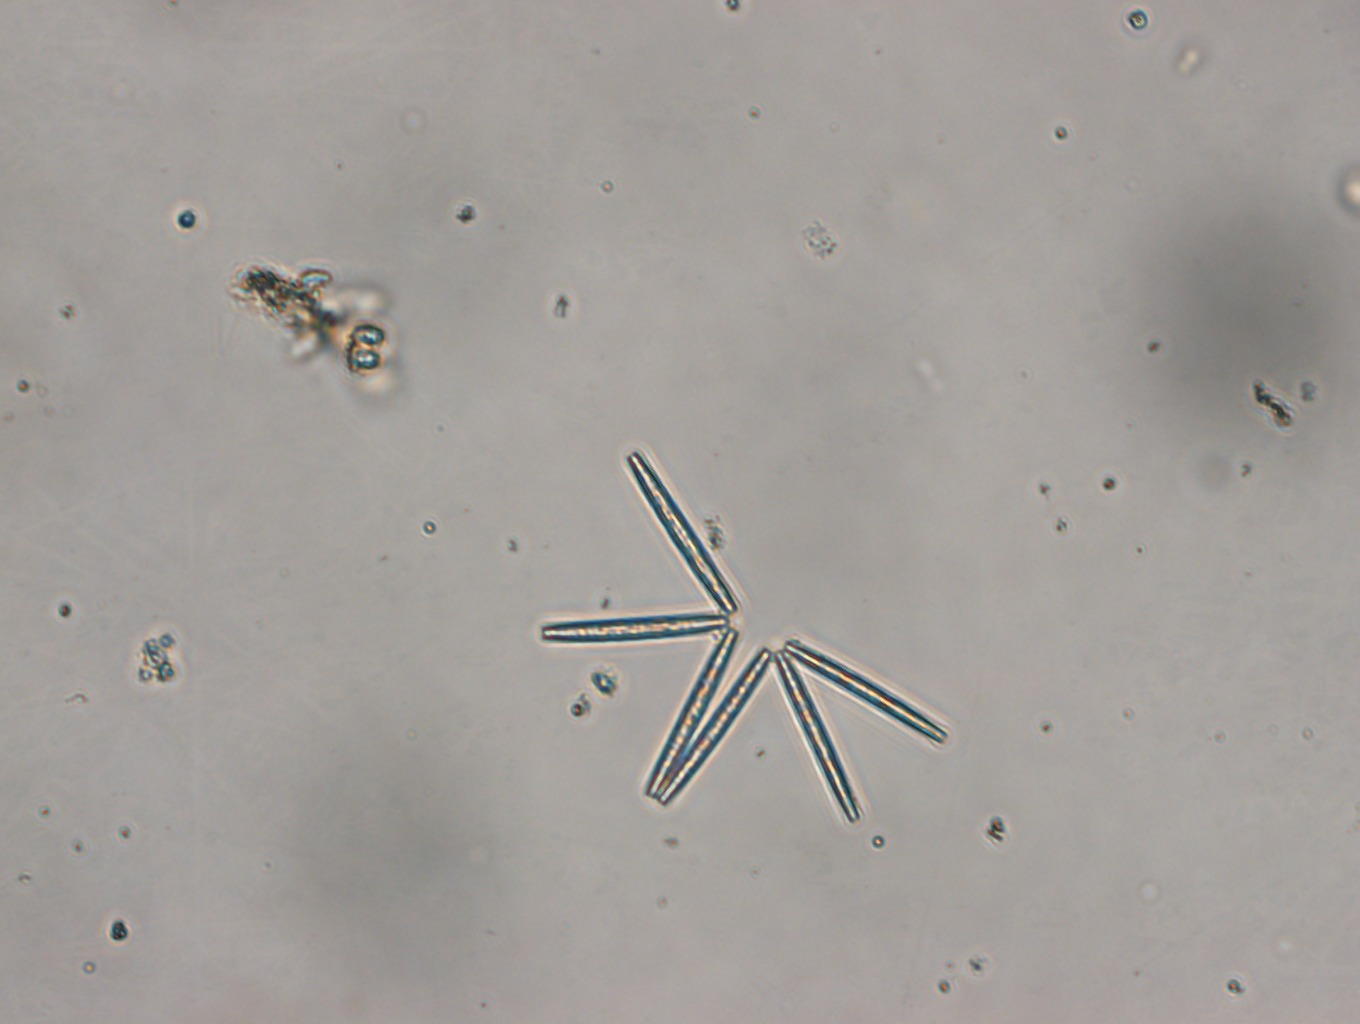thalassionema nitzschioides: (532, 447, 946, 831)
